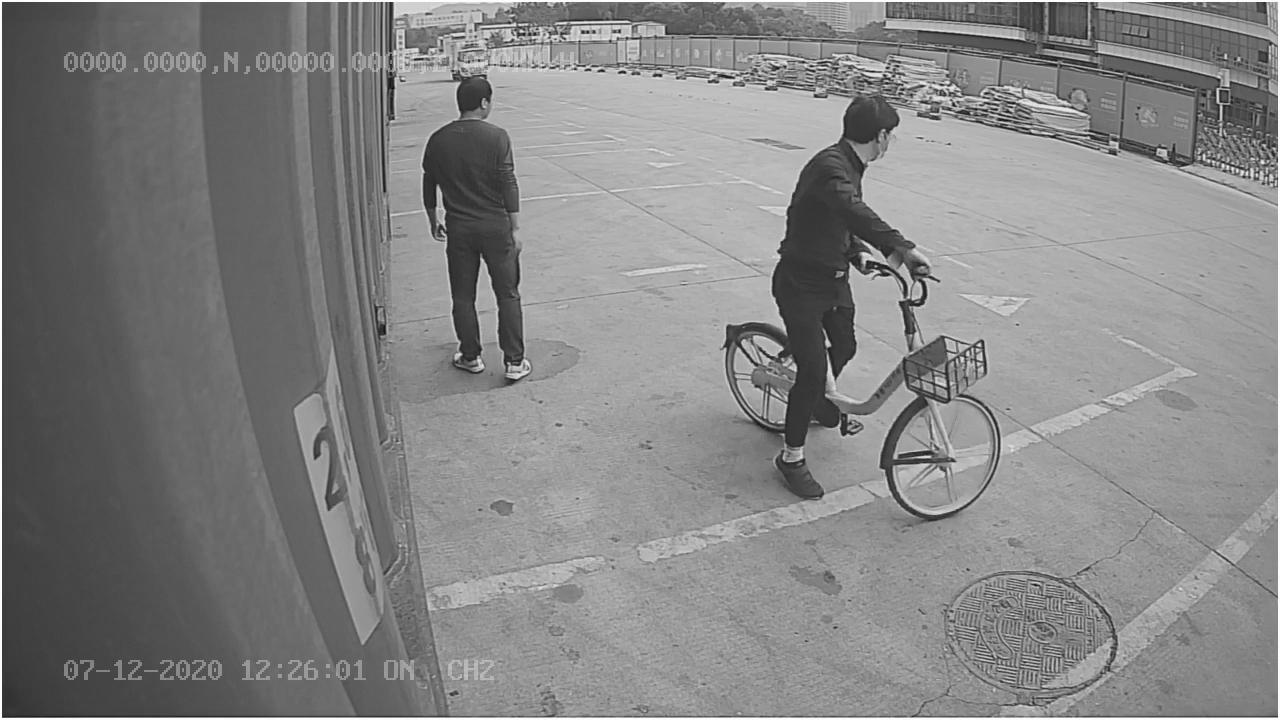person: (416, 73, 540, 388)
